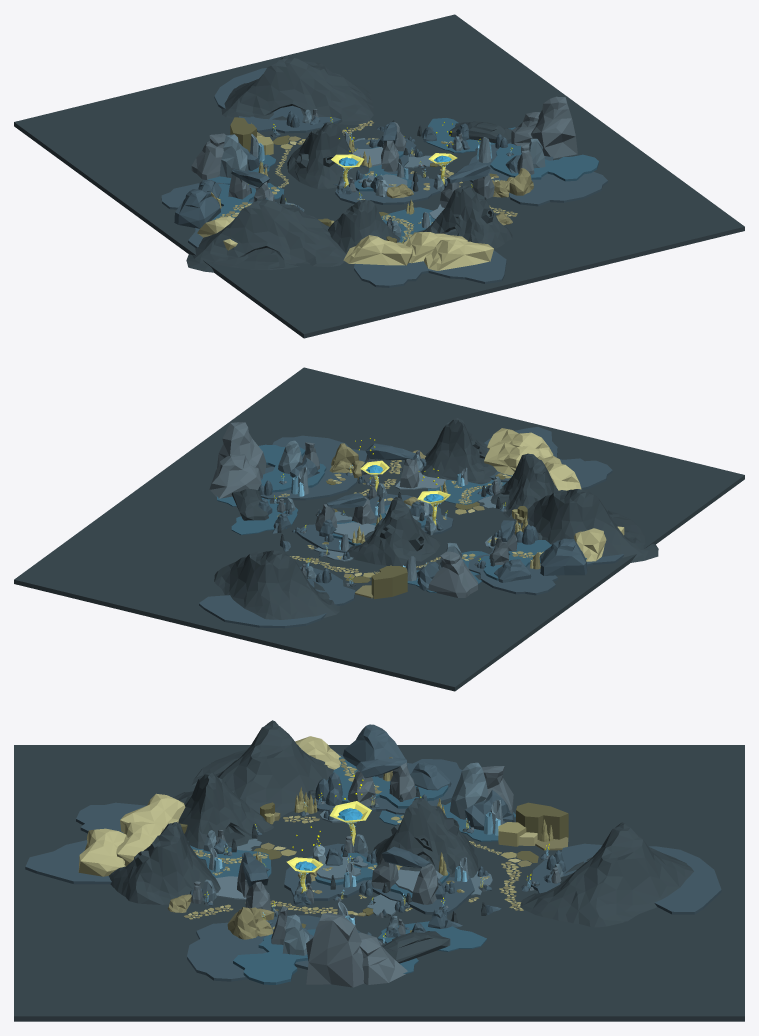
Rendered from Rock_Hills.fbx.
The picture shows the model from 3 angles, top to bottom: view 1: azimuth 30°, elevation 25°; view 2: azimuth 150°, elevation 25°; view 3: azimuth 270°, elevation 25°; orthographic projection. The views are drawn at different scales.
Parts seen in each view (by area): view 1: Ground_1, Landscape_3, Landscape, Landscape_2, Landscape_1, Ground_2_1, Ground_2_2, Polygon_16, Cube, Landscape_2_2, Ground_2_4, Ground_3_1 (+16 smaller); view 2: Ground_1, Landscape, Landscape_3, Landscape_2, Landscape_1, Ground_2_4, Ground_2_2, Landscape_2_2, Stone_1_4_2, Polygon_16, Ground_2_3, Cube_2 (+18 smaller); view 3: Ground_1, Landscape, Landscape_3, Landscape_1, Landscape_2, Landscape_2_2, Stone_1_4_2, Ground_2_4, Cube, Ground_2_2, Ground_2_1, Polygon_16 (+35 smaller).
Part boxes in pixels (x1=…): Ground_1: x1=14, y1=14, x2=744, y2=338; Landscape_3: x1=186, y1=199, x2=346, y2=272; Landscape: x1=221, y1=57, x2=373, y2=124; Landscape_2: x1=287, y1=122, x2=369, y2=188; Landscape_1: x1=423, y1=185, x2=512, y2=249; Ground_2_1: x1=354, y1=242, x2=506, y2=287; Ground_2_2: x1=469, y1=142, x2=607, y2=206; Polygon_16: x1=191, y1=133, x2=259, y2=179; Cube: x1=531, y1=96, x2=577, y2=158; Landscape_2_2: x1=328, y1=199, x2=400, y2=254; Ground_2_4: x1=214, y1=68, x2=340, y2=133; Ground_3_1: x1=490, y1=144, x2=598, y2=181; Ground_1: x1=14, y1=367, x2=744, y2=691; Landscape: x1=214, y1=550, x2=340, y2=619; Landscape_3: x1=521, y1=489, x2=658, y2=562; Landscape_2: x1=346, y1=497, x2=440, y2=566; Landscape_1: x1=420, y1=418, x2=496, y2=482; Ground_2_4: x1=199, y1=566, x2=355, y2=628; Ground_2_2: x1=258, y1=435, x2=367, y2=500; Landscape_2_2: x1=490, y1=453, x2=558, y2=518; Stone_1_4_2: x1=277, y1=473, x2=527, y2=599; Polygon_16: x1=417, y1=542, x2=478, y2=597; Ground_2_3: x1=468, y1=546, x2=623, y2=595; Cube_2: x1=209, y1=454, x2=261, y2=498; Ground_1: x1=14, y1=745, x2=744, y2=1021; Landscape: x1=520, y1=822, x2=693, y2=927; Landscape_3: x1=173, y1=720, x2=333, y2=817; Landscape_1: x1=109, y1=822, x2=220, y2=904; Landscape_2: x1=373, y1=798, x2=478, y2=877; Landscape_2_2: x1=178, y1=772, x2=273, y2=848; Stone_1_4_2: x1=180, y1=802, x2=568, y2=932; Ground_2_4: x1=531, y1=843, x2=721, y2=914; Cube: x1=306, y1=912, x2=364, y2=987; Ground_2_2: x1=187, y1=915, x2=360, y2=981; Ground_2_1: x1=25, y1=802, x2=188, y2=884; Polygon_16: x1=450, y1=762, x2=515, y2=830.
Bounding box in the file's own units: 3314 × 563 × 3655.
1 material, 1 textured.
